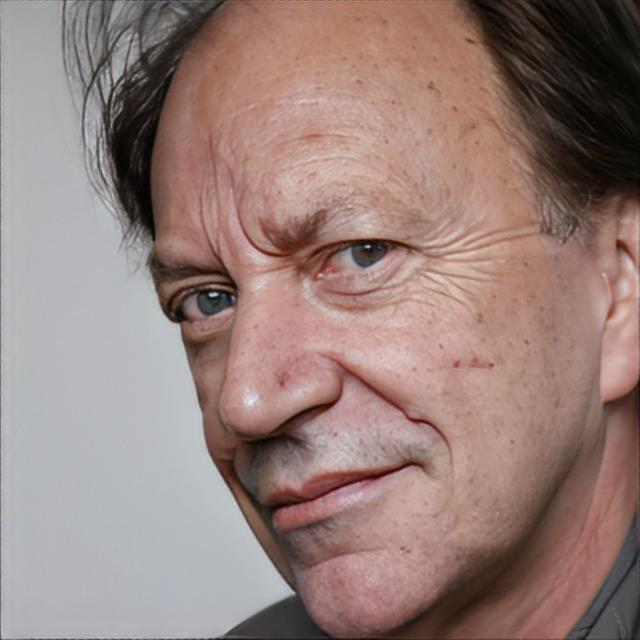content: (147, 0, 596, 640)
